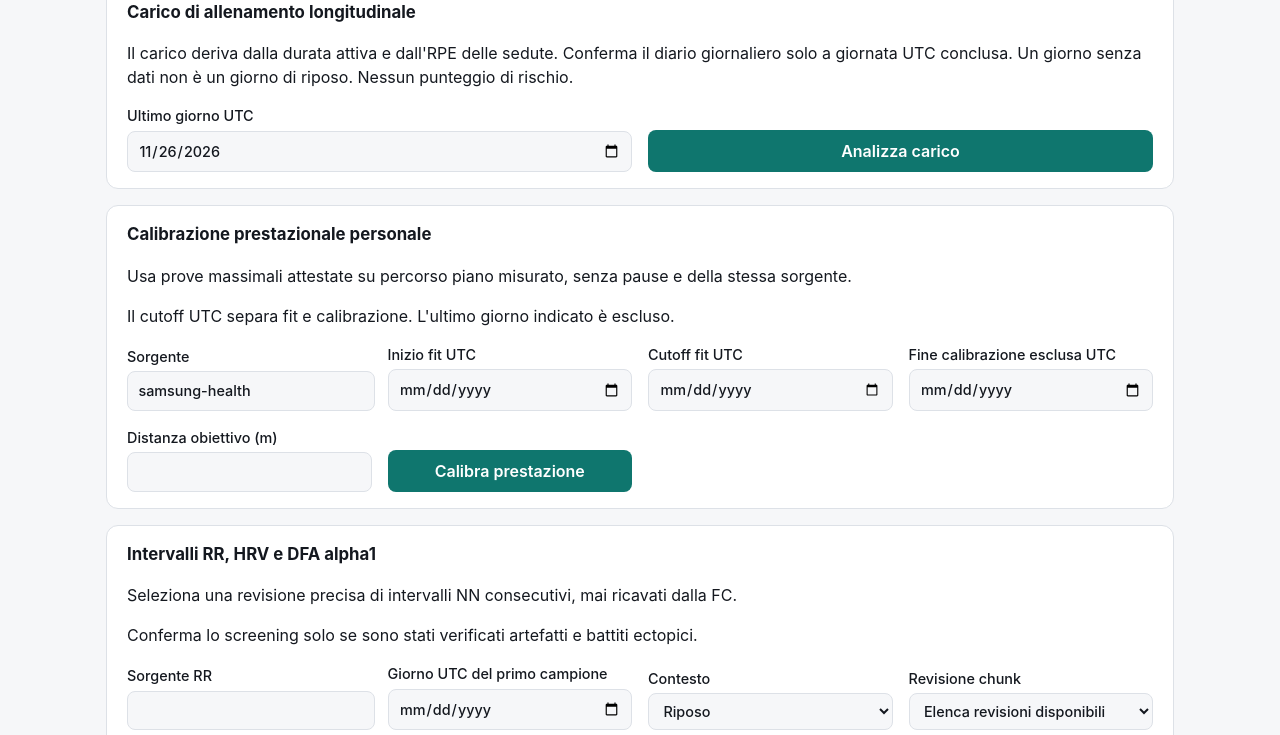
calibrazione personale › invia una finestra esplicita e non mostra previsioni senza prove
The image size is (1280, 735).
(page scrolled)
Type "2026-01-01" into the date field labelled "Inizio fit UTC" at [510, 390], box x1=388 y1=369 x2=632 y2=411
(page scrolled)
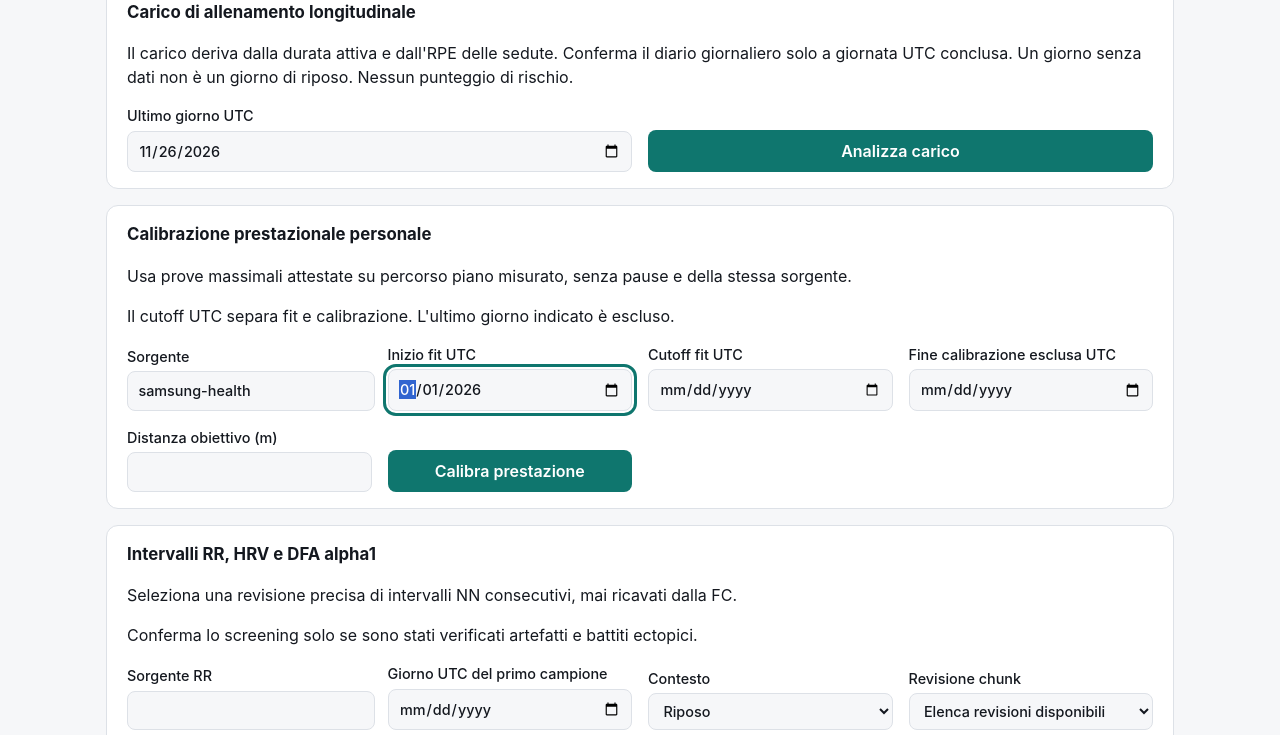
Type "2026-02-01" into the date field labelled "Cutoff fit UTC" at [770, 390], box x1=648 y1=369 x2=892 y2=411
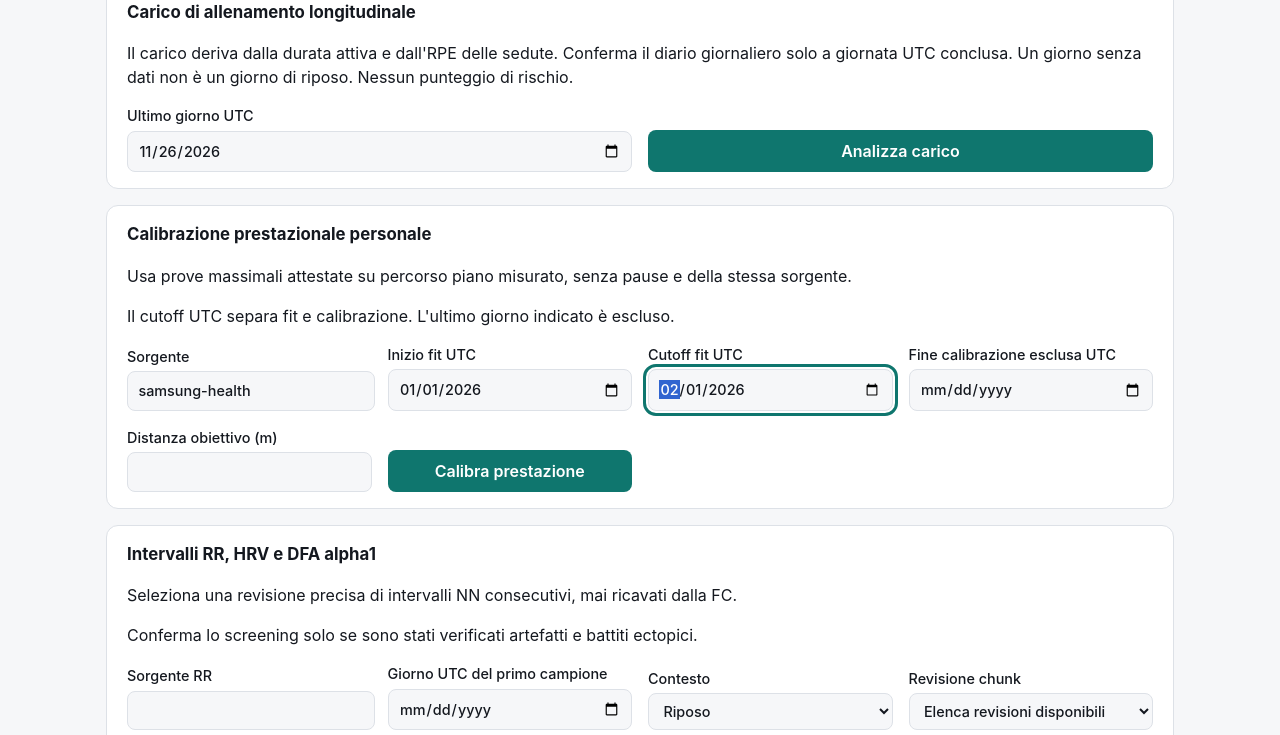
Type "2026-03-01" into the date field labelled "Fine calibrazione esclusa UTC" at [1031, 390], box x1=908 y1=369 x2=1153 y2=411
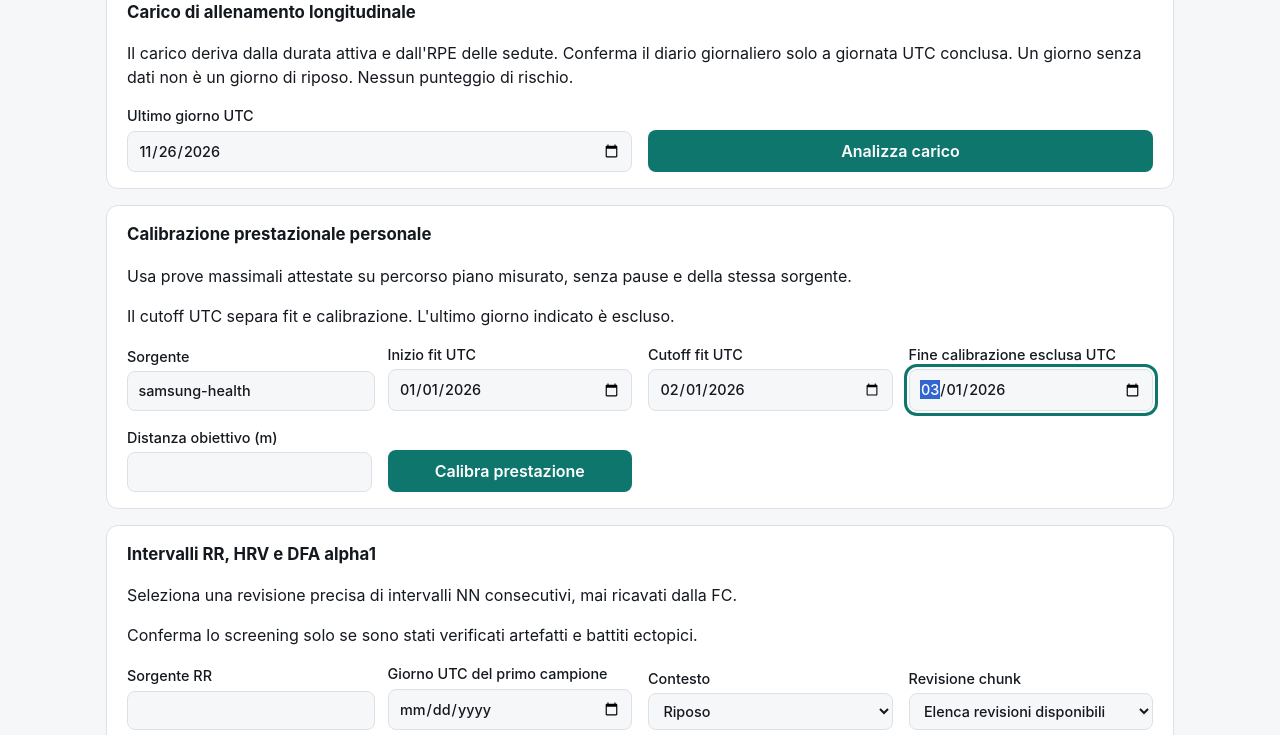
Type "5000" into the number field labelled "Distanza obiettivo (m)" at [249, 472], box x1=127 y1=452 x2=372 y2=492
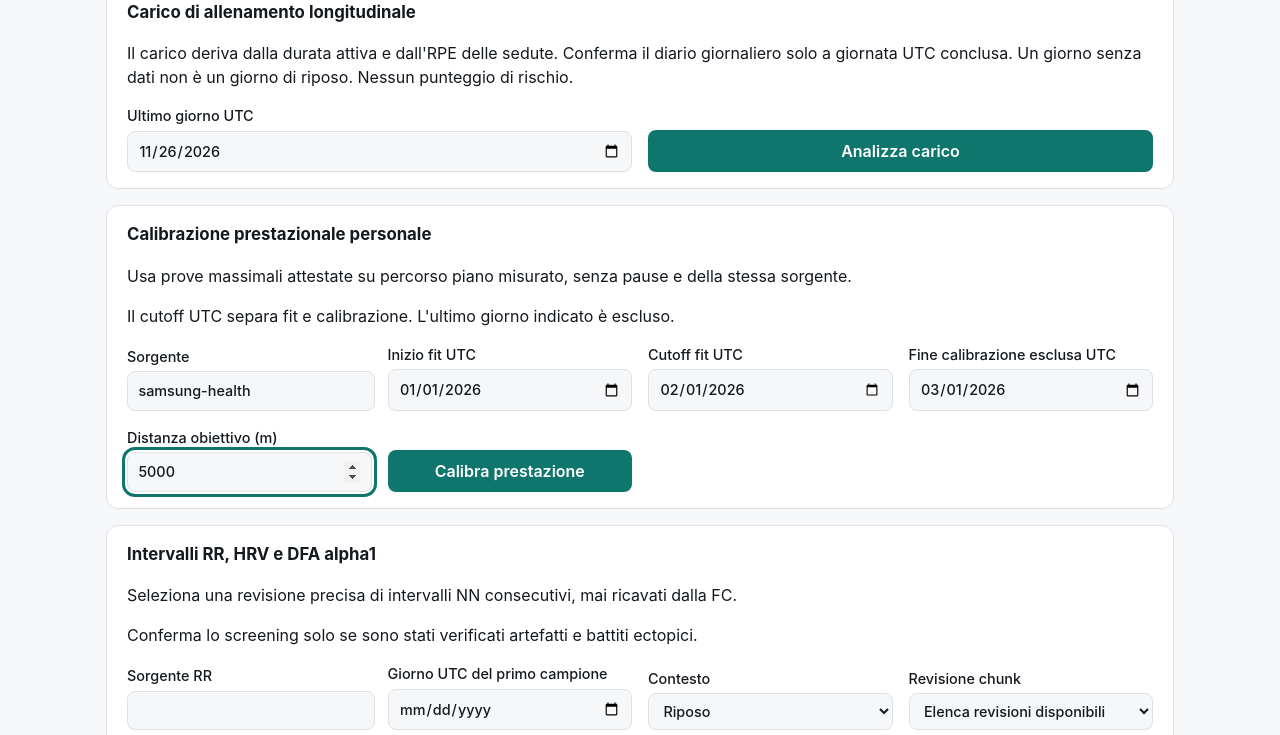
Click the button "Calibra prestazione" at [510, 471], box x1=388 y1=450 x2=632 y2=492
(page scrolled)
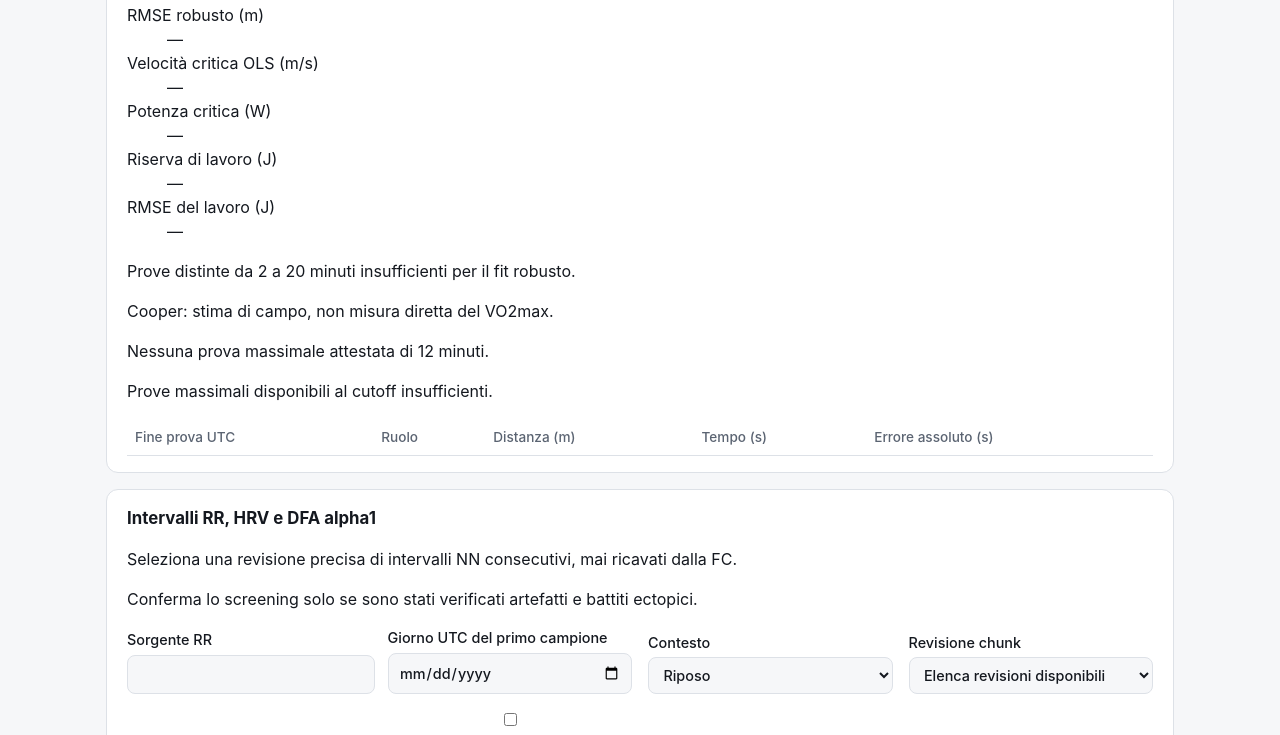
Expected: the text "Prove massimali disponibili al cutoff insufficienti." is shown, x1=127 y1=381 x2=493 y2=401
